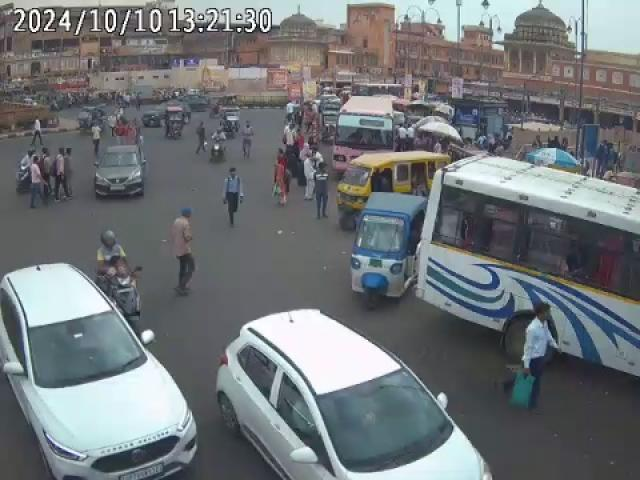auto: (348, 192, 426, 310), (335, 150, 450, 228), (163, 106, 186, 141)
bus: (422, 154, 640, 376), (333, 94, 394, 172)
car: (215, 308, 494, 480), (0, 262, 202, 480), (92, 144, 148, 200)
helmet: (99, 228, 118, 248)
person: (518, 303, 558, 415), (168, 206, 199, 298), (270, 147, 293, 208), (222, 167, 244, 227), (310, 160, 330, 220), (52, 149, 74, 202), (27, 154, 47, 210), (28, 118, 44, 149)
scooty-rider: (91, 226, 148, 332), (208, 125, 226, 168)
